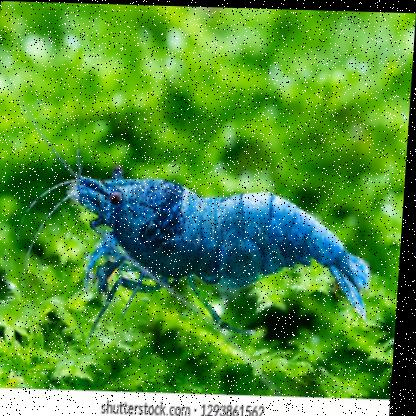shrimp: (53, 168, 381, 318)
